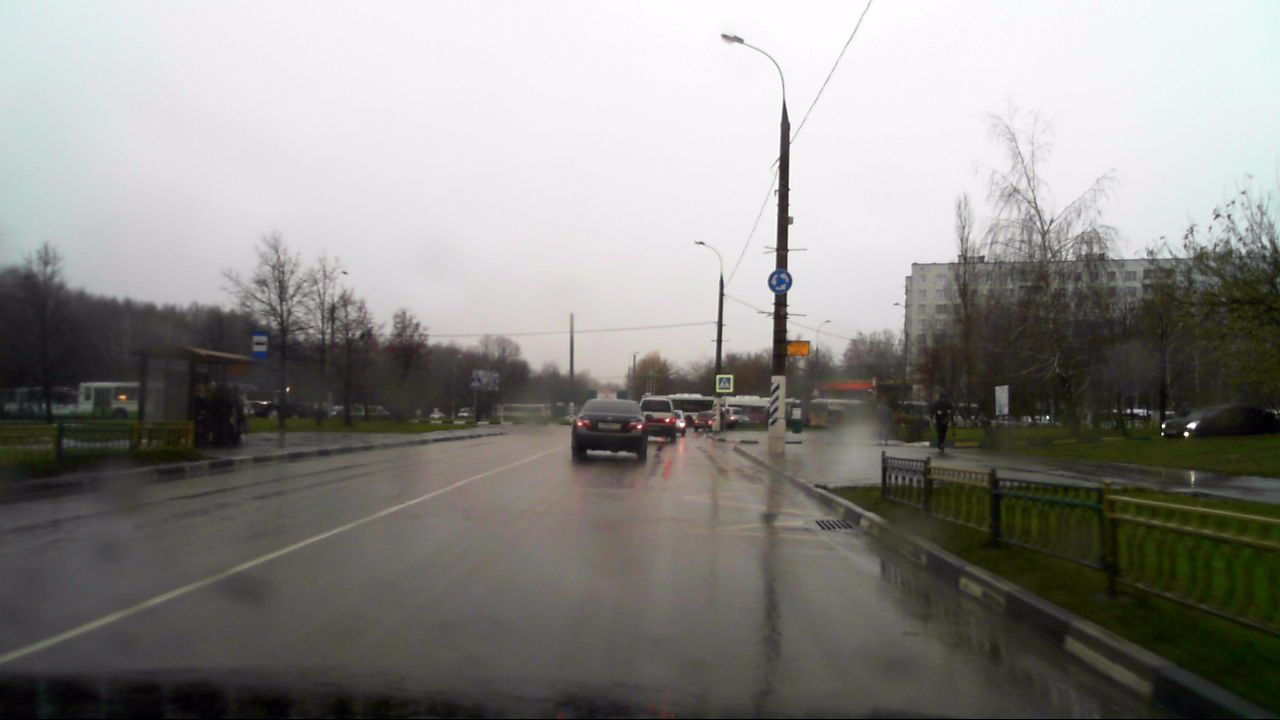Round-About: (767, 269, 792, 293)
